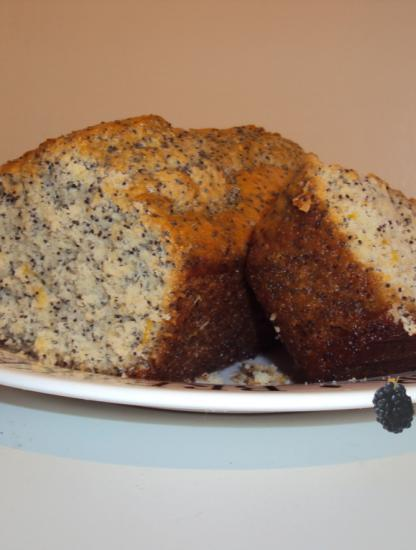Mulberry: (358, 380, 416, 438)
